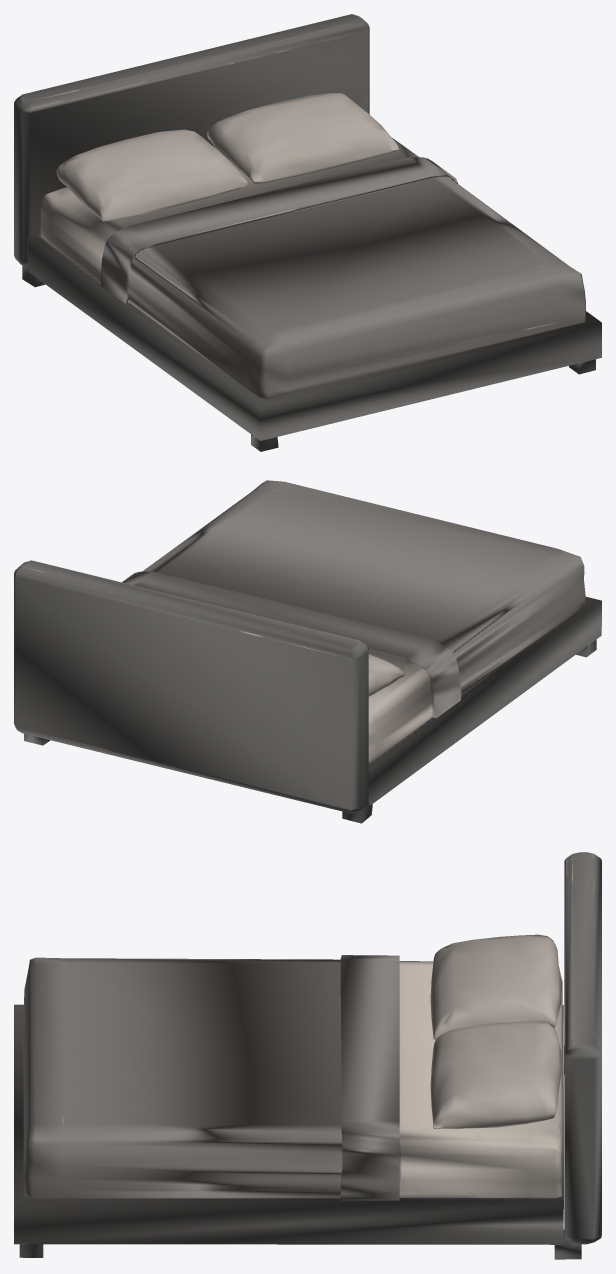
File: double_bed.fbx
3 renders of one model, top to bottom at view 1: azimuth 30°, elevation 25°; view 2: azimuth 150°, elevation 25°; view 3: azimuth 270°, elevation 25°, orthographic. The views are drawn at different scales.
Visible parts, largest first — view 1: Mesh_0; view 2: Mesh_0; view 3: Mesh_0.
Part boxes in pixels (box(x1,y1,x2,y2)): Mesh_0: box(14, 14, 601, 451); Mesh_0: box(14, 480, 601, 823); Mesh_0: box(14, 852, 601, 1259).
Bounding box in the file's own units: 77.2 × 38.23 × 95.65.
Materials: 1 (1 with a texture image).
